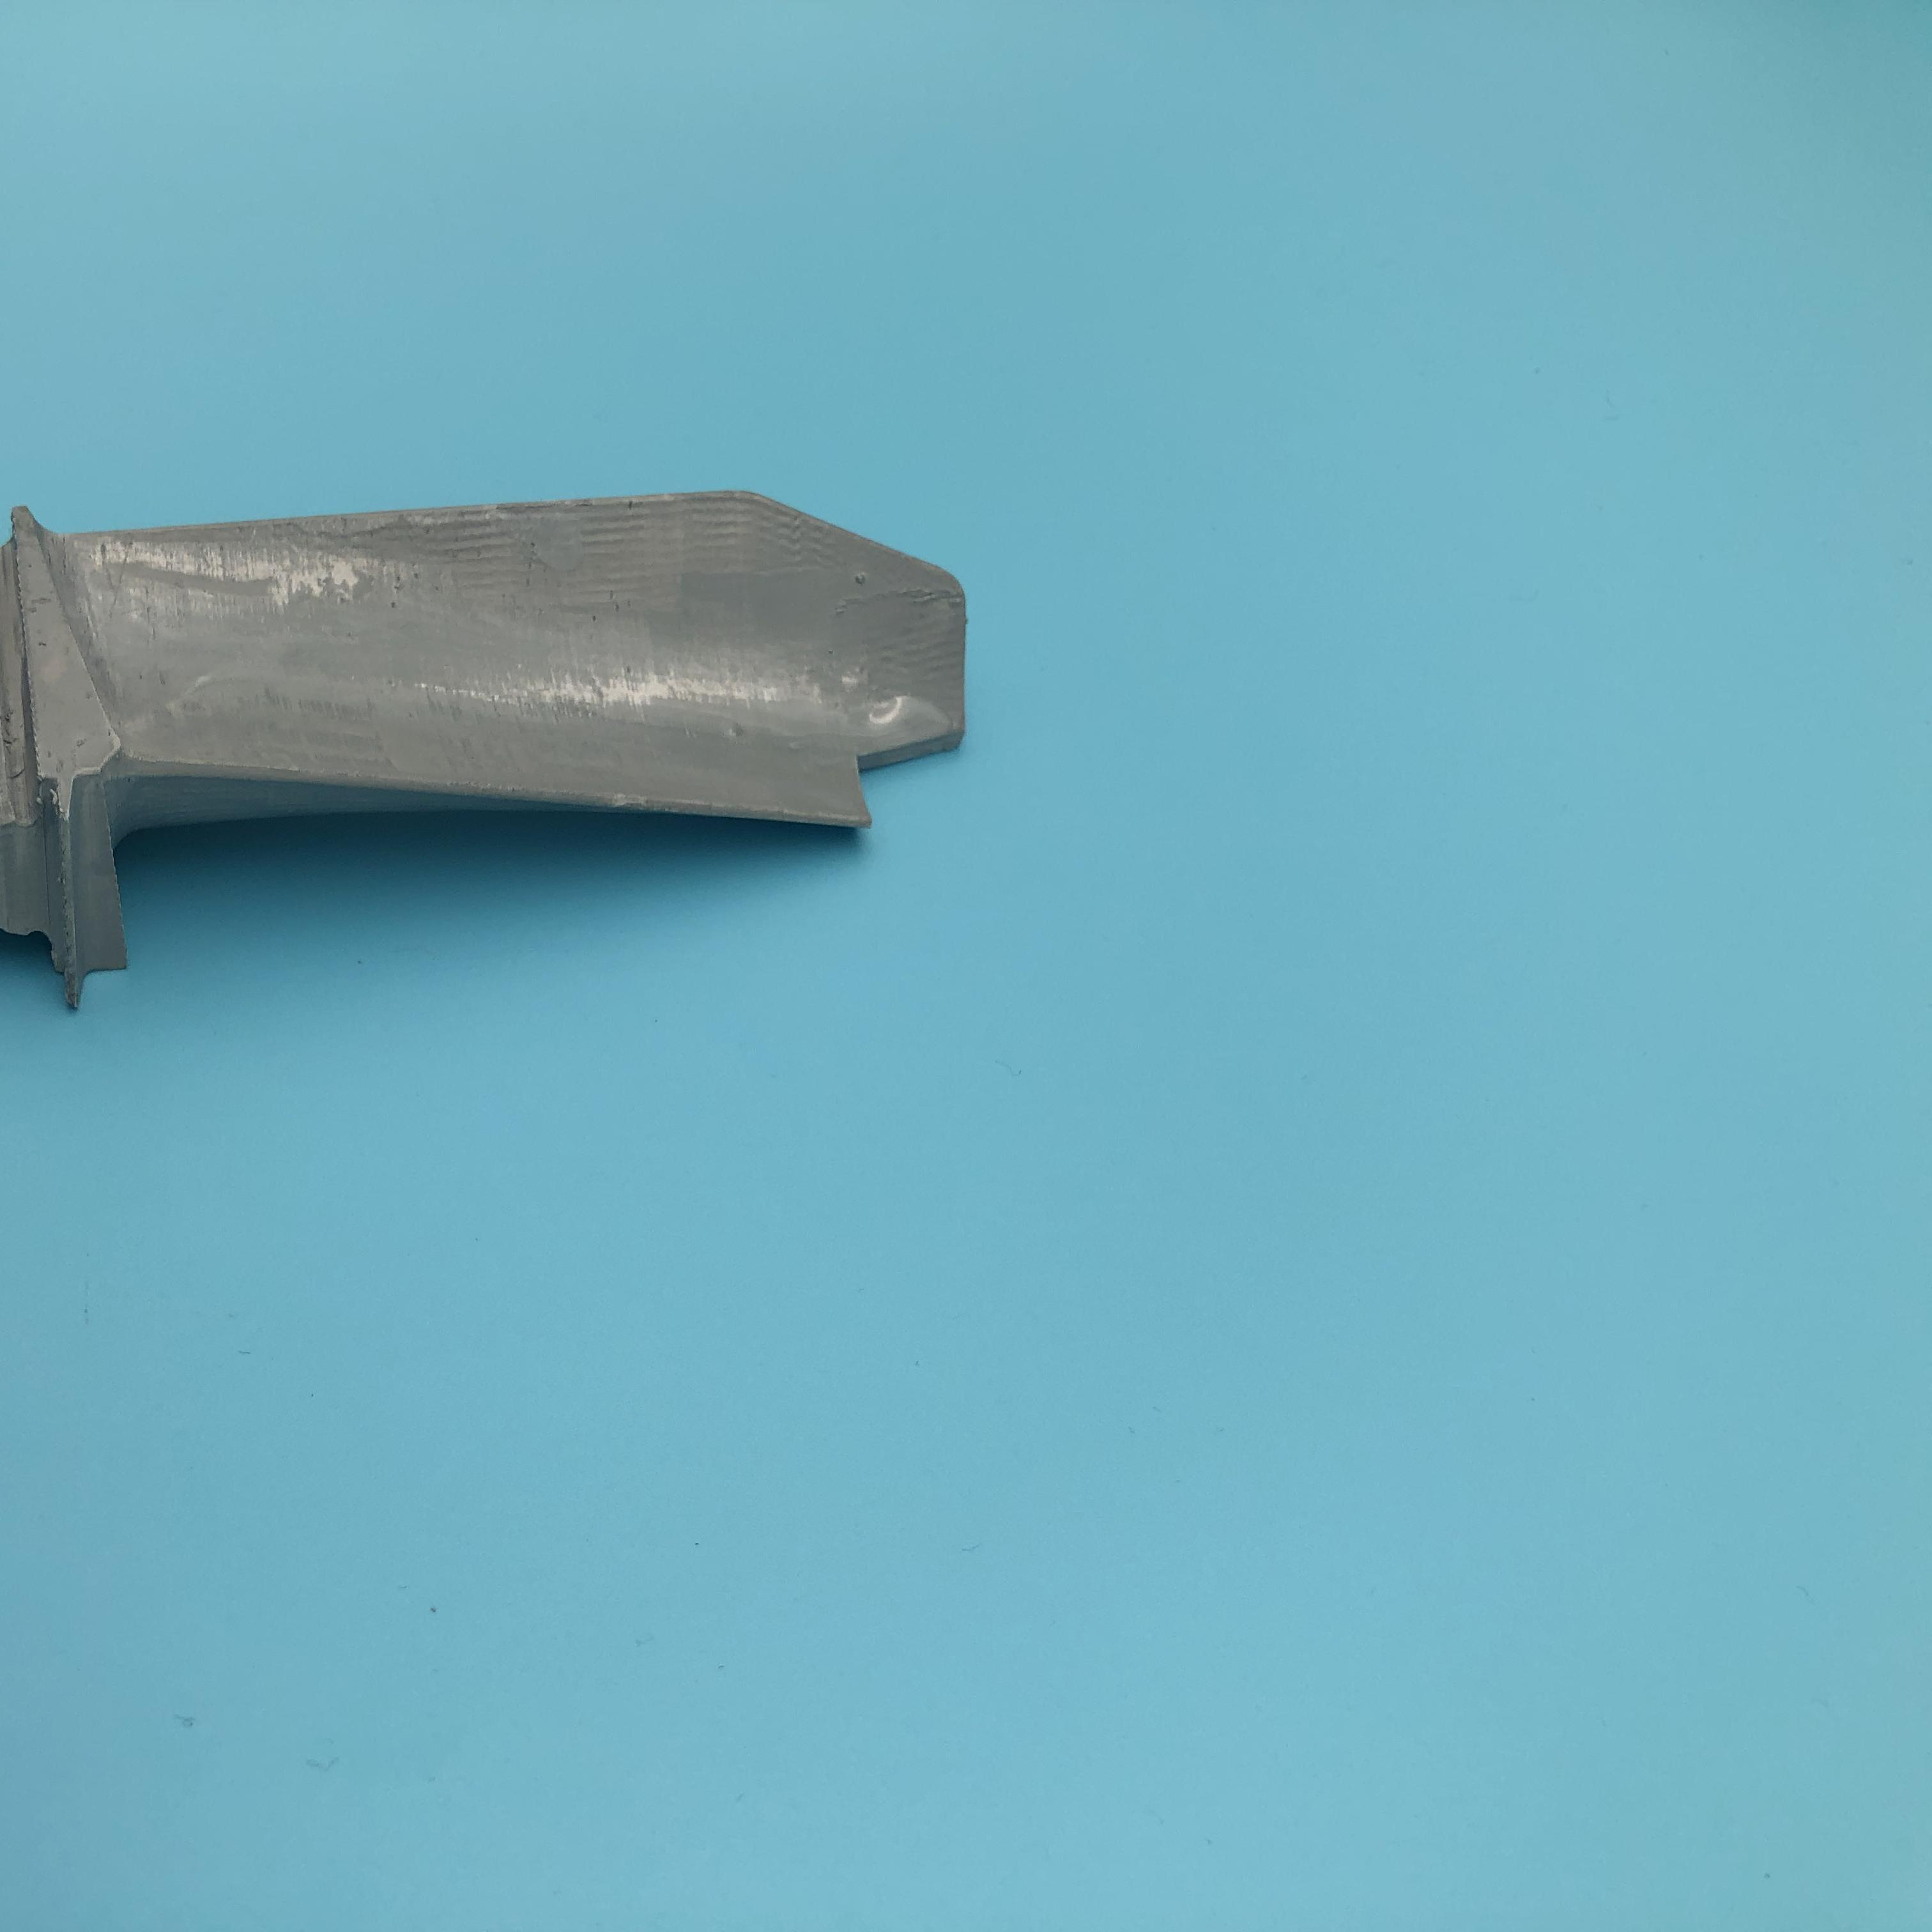fracture: (853, 725, 952, 846)
